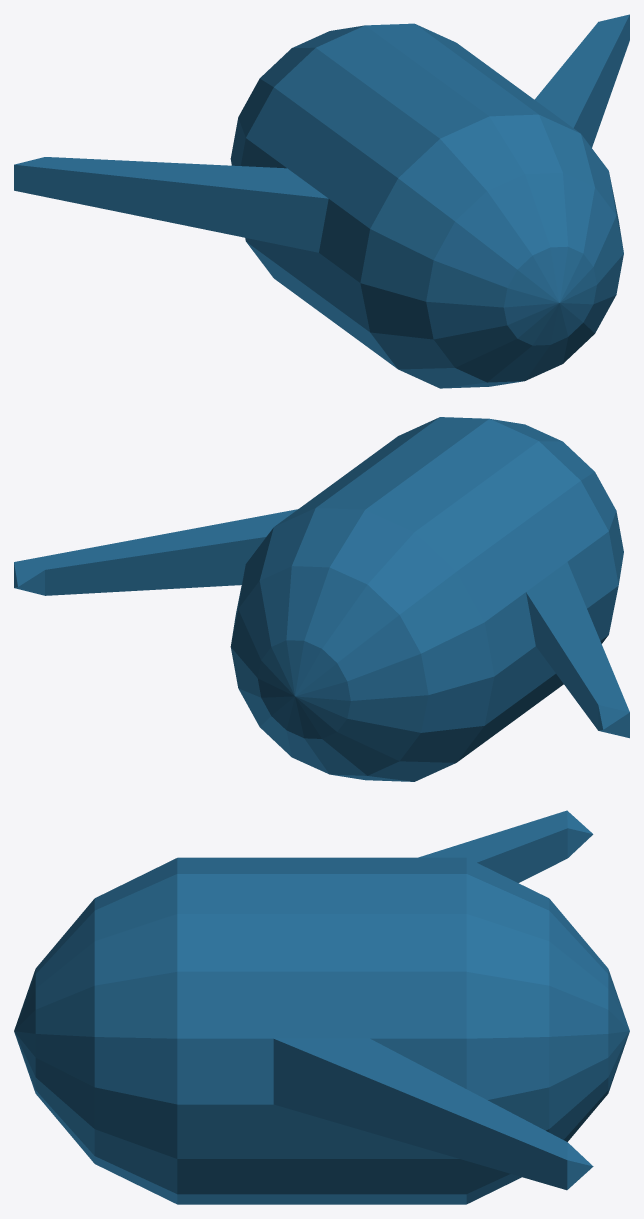
File: GhostNeck.glb
3 renders of one model, top to bottom at view 1: azimuth 30°, elevation 25°; view 2: azimuth 150°, elevation 25°; view 3: azimuth 270°, elevation 25°, orthographic. The views are drawn at different scales.
Visible parts, largest first — view 1: GhostNeck; view 2: GhostNeck; view 3: GhostNeck.
Boxes of the visible parts, x1,y1,x2,y2 form: GhostNeck: [14, 14, 629, 388]; GhostNeck: [14, 417, 629, 781]; GhostNeck: [14, 810, 629, 1204].
Bounding box in the file's own units: 5.72 × 2.4 × 4.26.
Materials: 1 (1 with a texture image).
